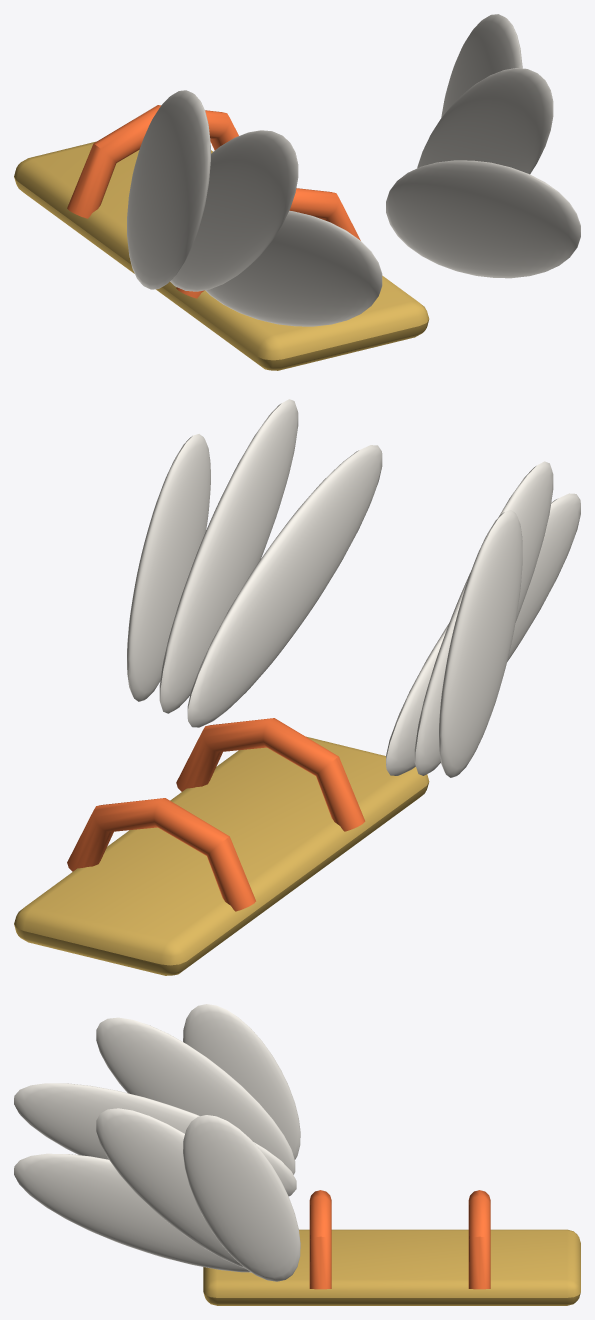
Rendered from sendal_hermes.glb.
3 views of the same model, one above another, from view 1: azimuth 30°, elevation 25°; view 2: azimuth 150°, elevation 25°; view 3: azimuth 270°, elevation 25° (orthographic). The views are drawn at different scales.
Visible parts, largest first — view 1: sendal_hermes; view 2: sendal_hermes; view 3: sendal_hermes.
Boxes of the visible parts, box(x1,y1,x2,y2) form: sendal_hermes: box(14, 14, 580, 370); sendal_hermes: box(14, 399, 580, 975); sendal_hermes: box(14, 1004, 580, 1305).
Bounding box in the file's own units: 0.4977 × 0.4298 × 1.
